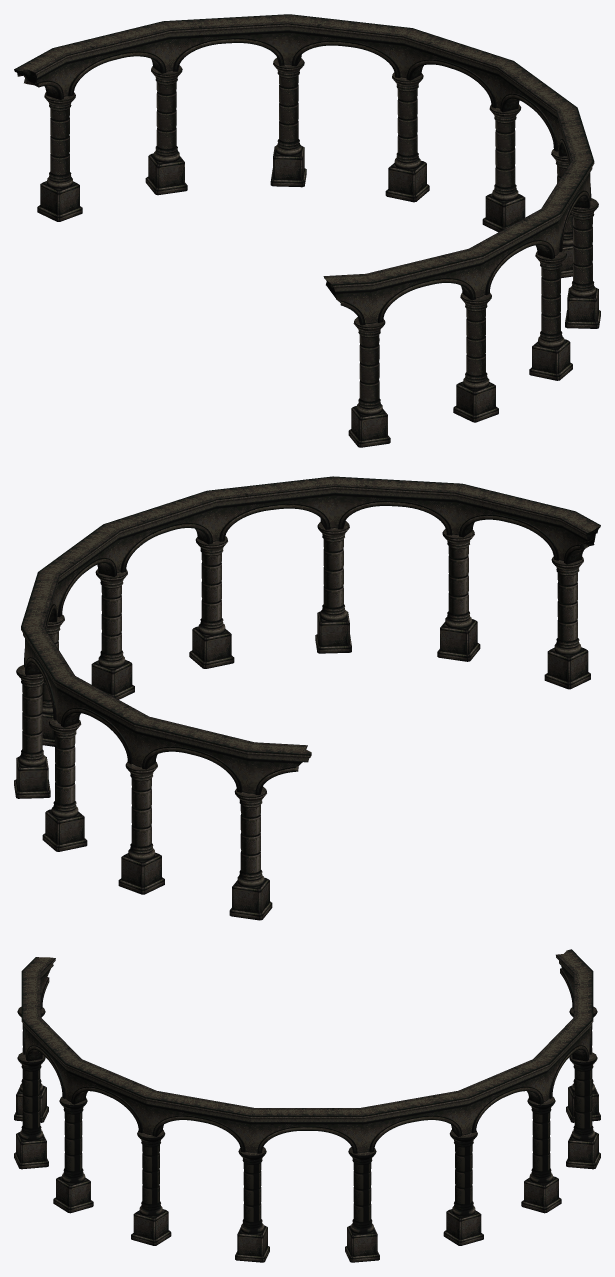
File: EnvMdrMD_Atl_A_Arch_A.FBX
3 views of the same model, one above another, from view 1: azimuth 30°, elevation 25°; view 2: azimuth 150°, elevation 25°; view 3: azimuth 270°, elevation 25° (orthographic). The views are drawn at different scales.
Parts seen in each view (by area): view 1: EnvMdrMD_Atl_A_Arch_A; view 2: EnvMdrMD_Atl_A_Arch_A; view 3: EnvMdrMD_Atl_A_Arch_A.
Part boxes in pixels (x1,y1,x2,y2): EnvMdrMD_Atl_A_Arch_A: [14, 14, 600, 447]; EnvMdrMD_Atl_A_Arch_A: [14, 476, 600, 920]; EnvMdrMD_Atl_A_Arch_A: [14, 949, 600, 1262].
Bounding box in the file's own units: 2254 × 885 × 3285.
